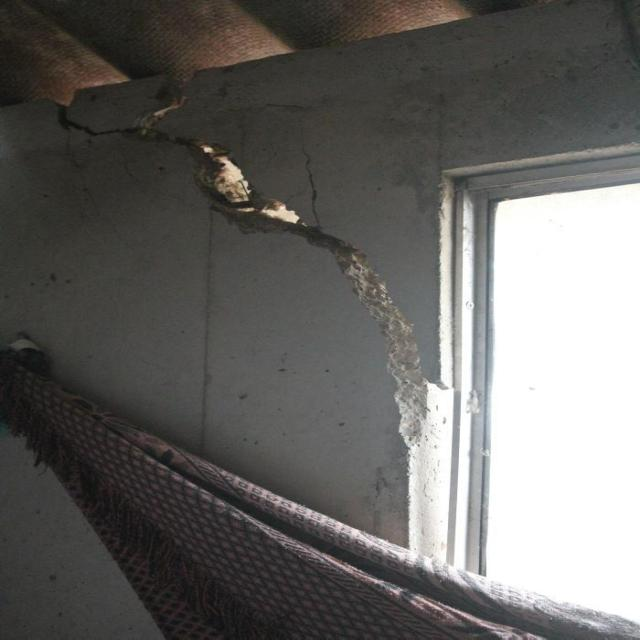crack: (49, 68, 460, 446)
